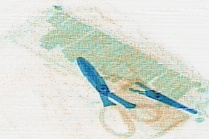scissors: (76, 54, 161, 136), (86, 58, 195, 113)
